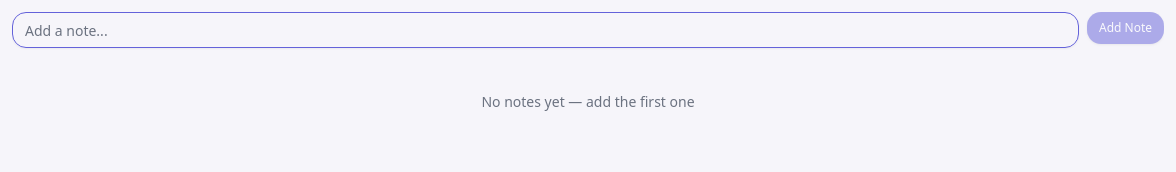
Test: AdvisorNotes › clicking "Add Note" calls onAddNote with trimmed text and clears input
In the field named "note text": (546, 30) [12,12,1079,48], type "  New note  "
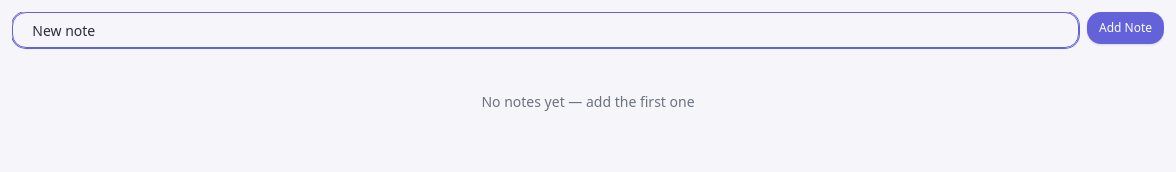
Click the button "Add Note": (1126, 28) [1087,12,1164,44]
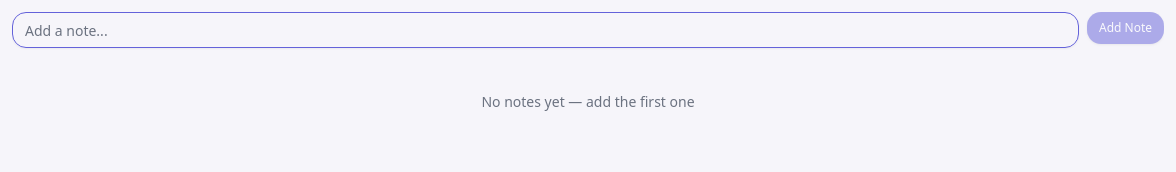
Result: the field named "note text" is empty at [12,12,1079,48]
